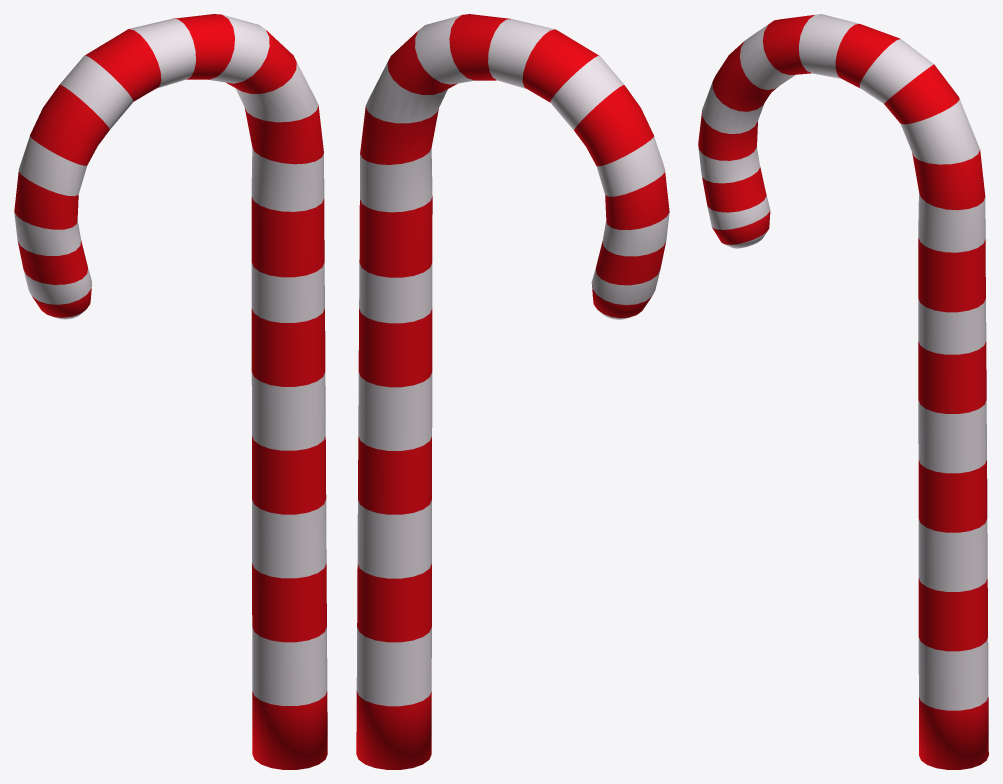
Rendered from SALIENTE 1.fbx.
3 views of the same model, side by side, from view 1: azimuth 30°, elevation 25°; view 2: azimuth 150°, elevation 25°; view 3: azimuth 330°, elevation 25° (orthographic). The views are drawn at different scales.
Parts seen in each view (by area): view 1: Baston; view 2: Baston; view 3: Baston.
Boxes of the visible parts, <box> form: Baston: <box>14,14,327,769</box>; Baston: <box>356,14,669,769</box>; Baston: <box>698,14,988,769</box>.
Bounding box in the file's own units: 745 × 1791 × 167.
